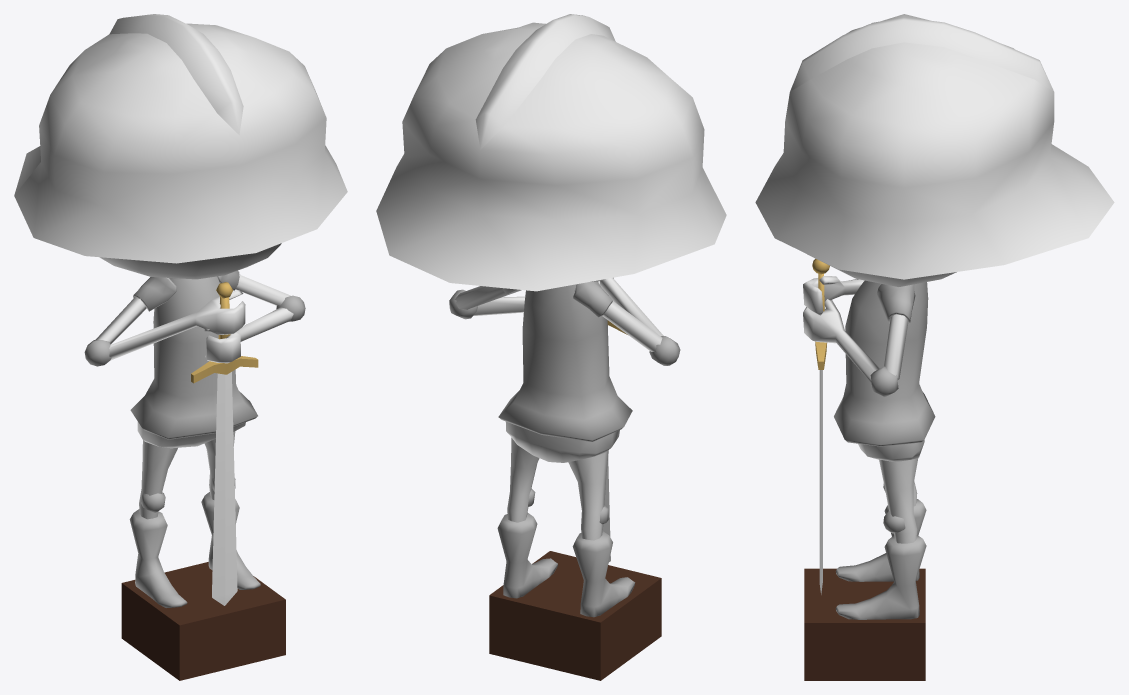
File: MiscArmorUV.fbx
3 views of the same model, side by side, from view 1: azimuth 30°, elevation 25°; view 2: azimuth 150°, elevation 25°; view 3: azimuth 270°, elevation 25° (orthographic). The views are drawn at different scales.
Visible parts, largest first — view 1: SuitOfArmor1; view 2: SuitOfArmor1; view 3: SuitOfArmor1.
Boxes of the visible parts, left/top/right/bottom form: SuitOfArmor1: left=14, top=14, right=347, bottom=680; SuitOfArmor1: left=376, top=14, right=726, bottom=680; SuitOfArmor1: left=755, top=14, right=1114, bottom=680.
Bounding box in the file's own units: 171 × 328 × 168.
